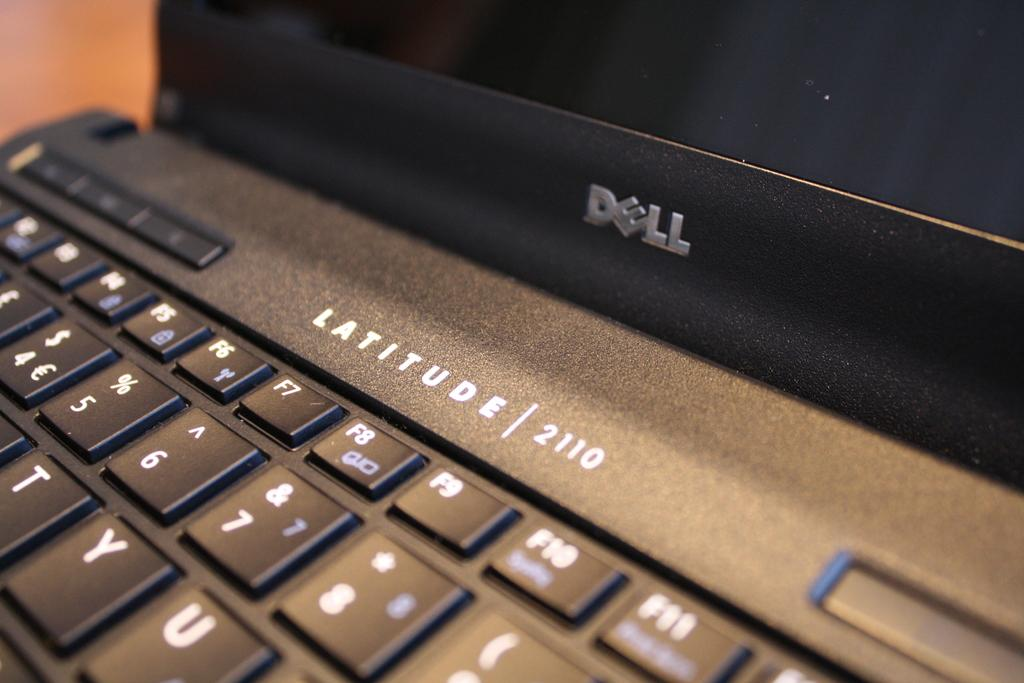Computer-keyboard: (0, 152, 876, 682)
Laptop: (0, 63, 981, 683)
